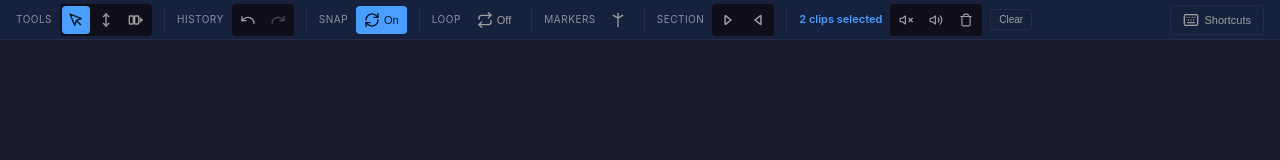
Test: Toolbar › multi-selection actions › clears the selection
This screenshot has width=1280, height=160.
Click the button "Clear" at point(1011, 20), box [990,9,1032,30]
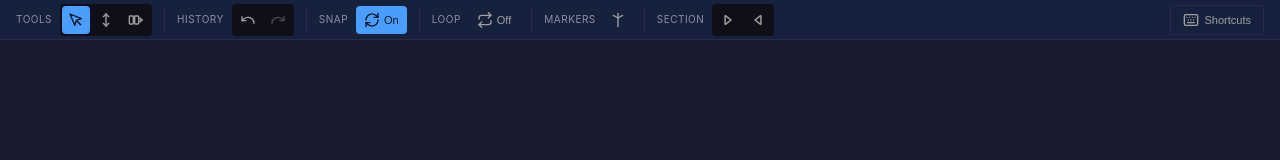
Now the text "clips selected" is gone
